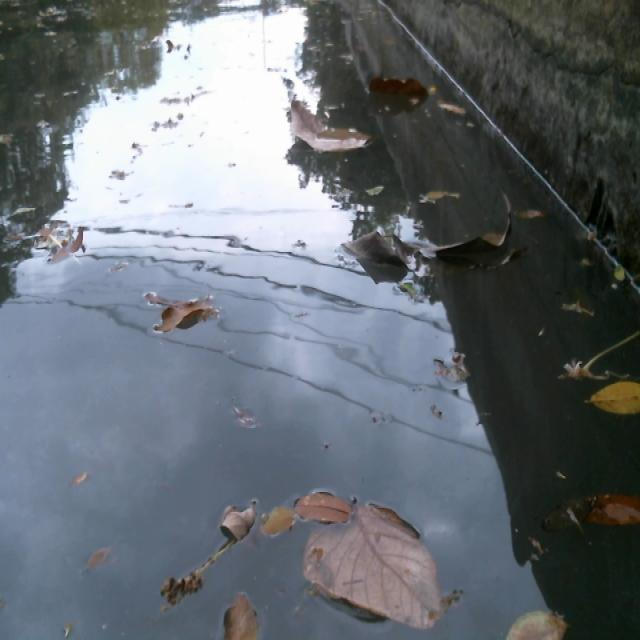Big-leaf: (305, 511, 451, 632), (282, 94, 376, 162), (432, 202, 522, 265), (340, 225, 423, 285), (370, 63, 431, 110)
Small-leaf: (540, 471, 640, 538), (557, 324, 640, 384), (153, 298, 220, 339), (219, 587, 265, 640), (296, 485, 353, 525), (505, 605, 569, 640), (587, 377, 640, 419), (224, 497, 259, 546), (261, 497, 299, 542), (47, 229, 92, 266), (432, 353, 475, 388), (228, 396, 261, 439), (78, 538, 118, 570), (418, 183, 462, 206), (436, 95, 467, 122), (565, 297, 596, 324), (70, 467, 97, 496), (608, 261, 626, 299), (162, 35, 183, 53)
